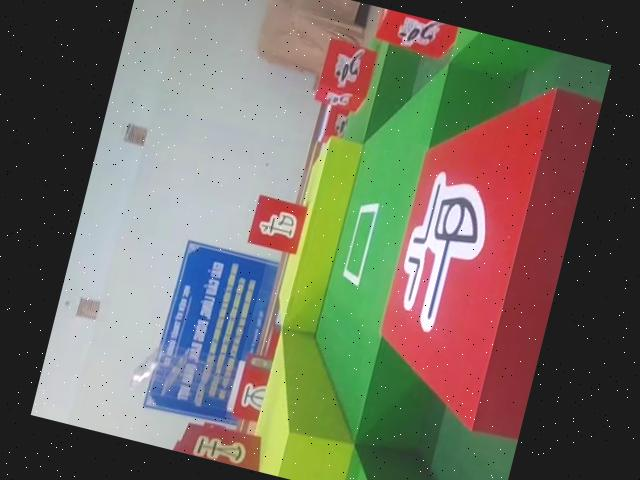R1: (313, 39, 377, 113), (370, 8, 456, 62)
R2 Real: (356, 60, 602, 442), (170, 416, 271, 473), (248, 192, 308, 254)
